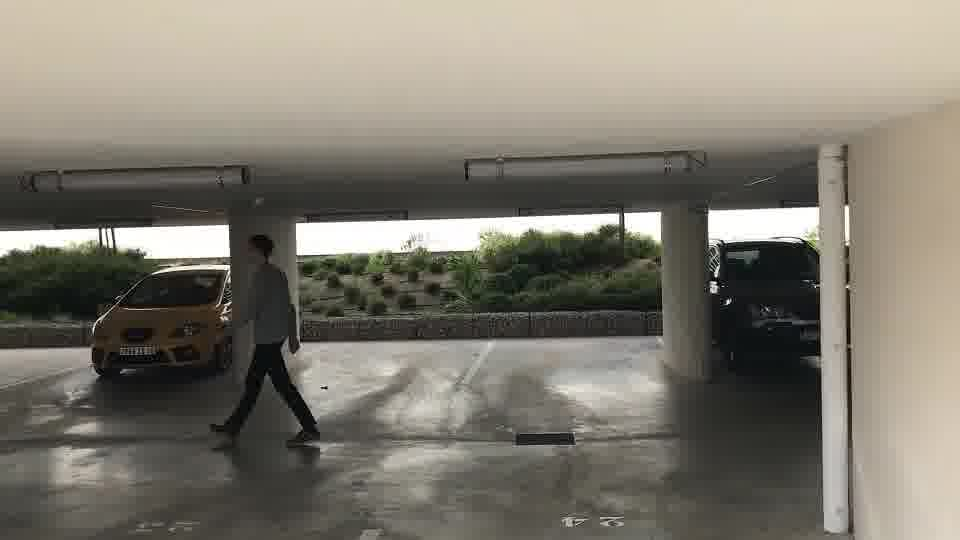jugador: (205, 233, 325, 452)
